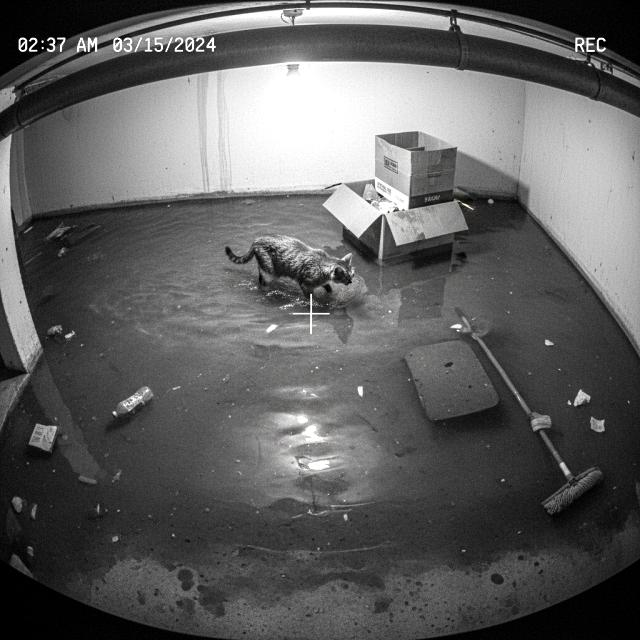cat: (214, 226, 370, 325)
